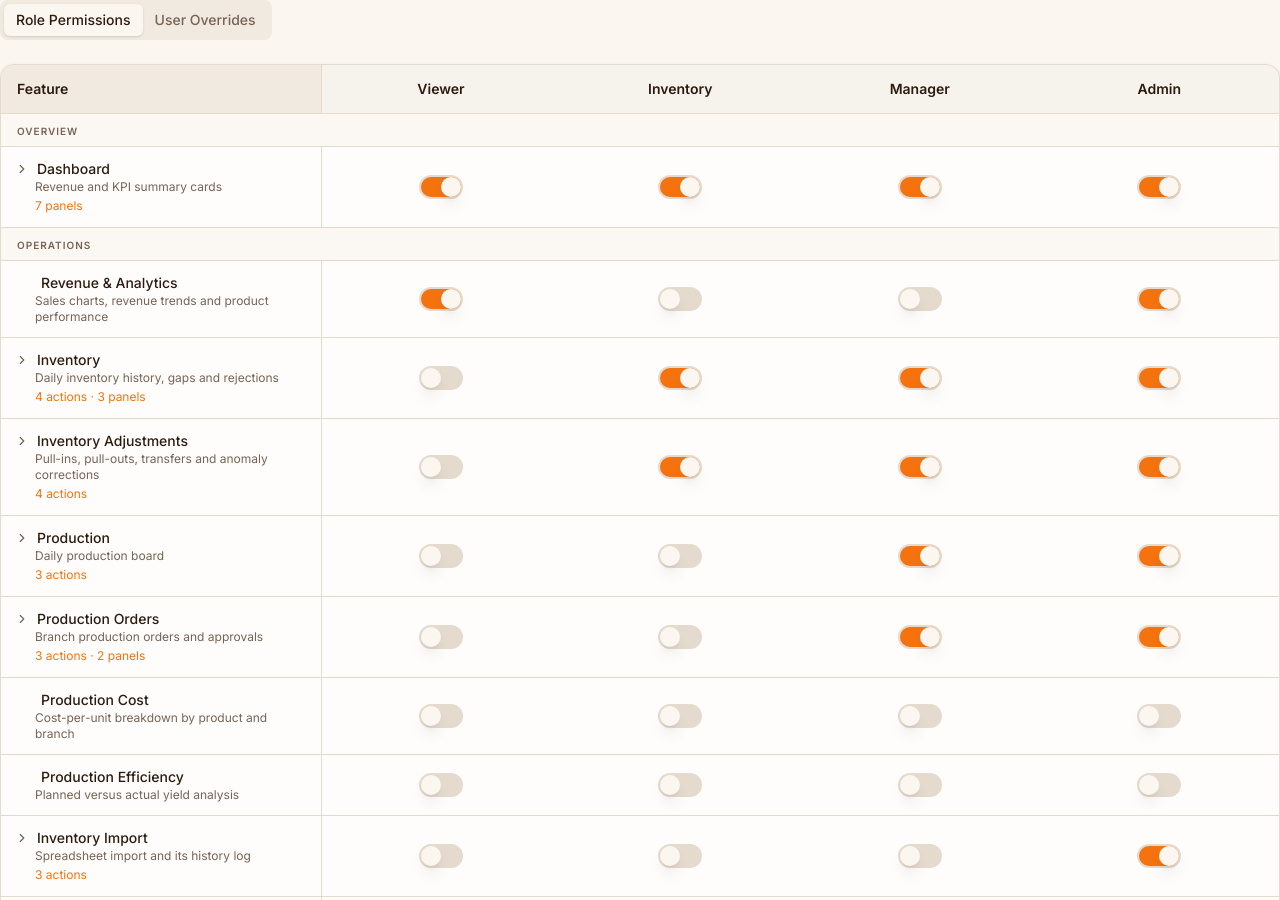
Test: Permissions screen — user overrides › prompts for a user before showing anything
Click the tab "User Overrides".
click(205, 20)  # box [142, 4, 268, 36]
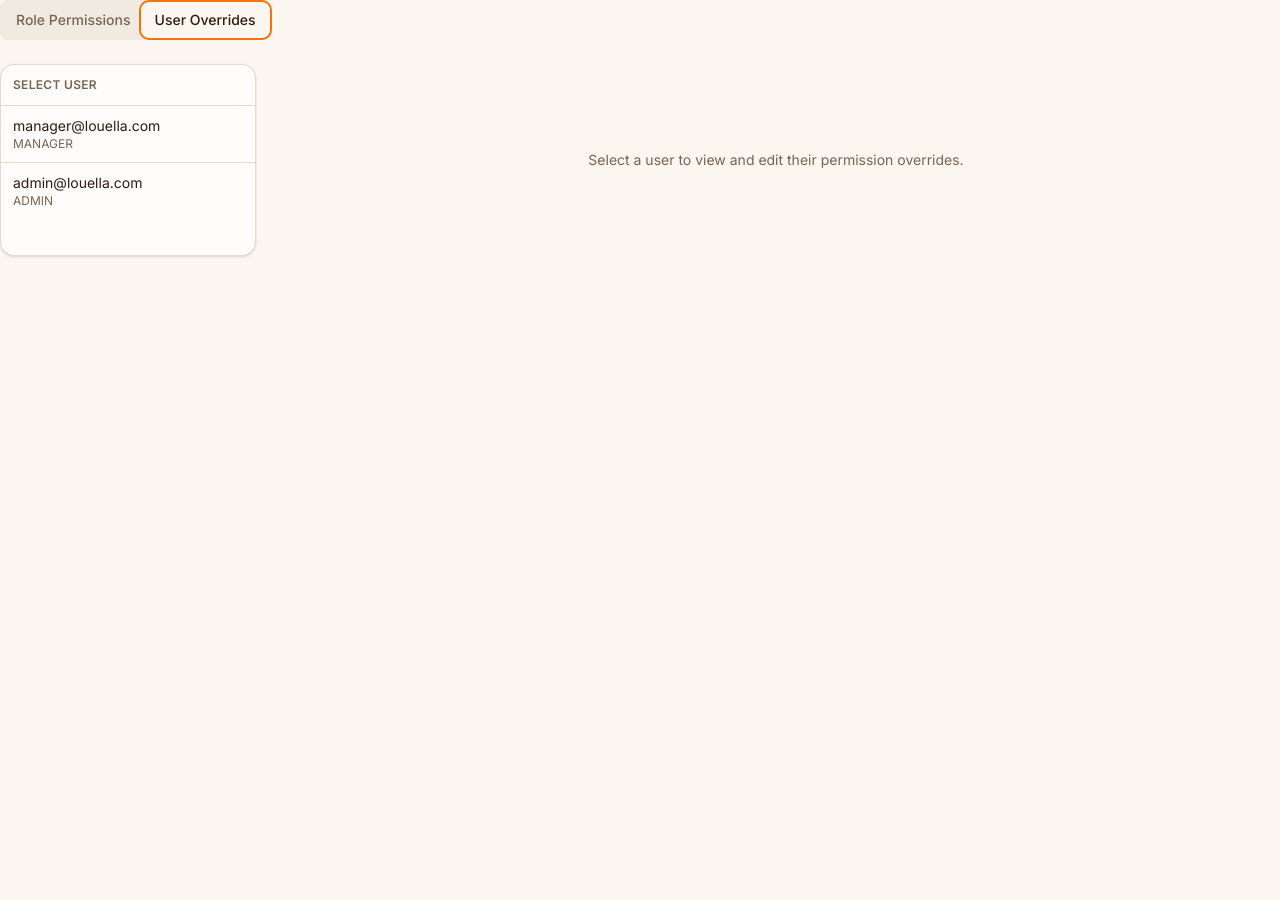
Now the text "Select User" is shown, box [13, 77, 97, 92]
Now the text "Select a user to view and edit their permission overrides." is shown, box [588, 151, 964, 168]
